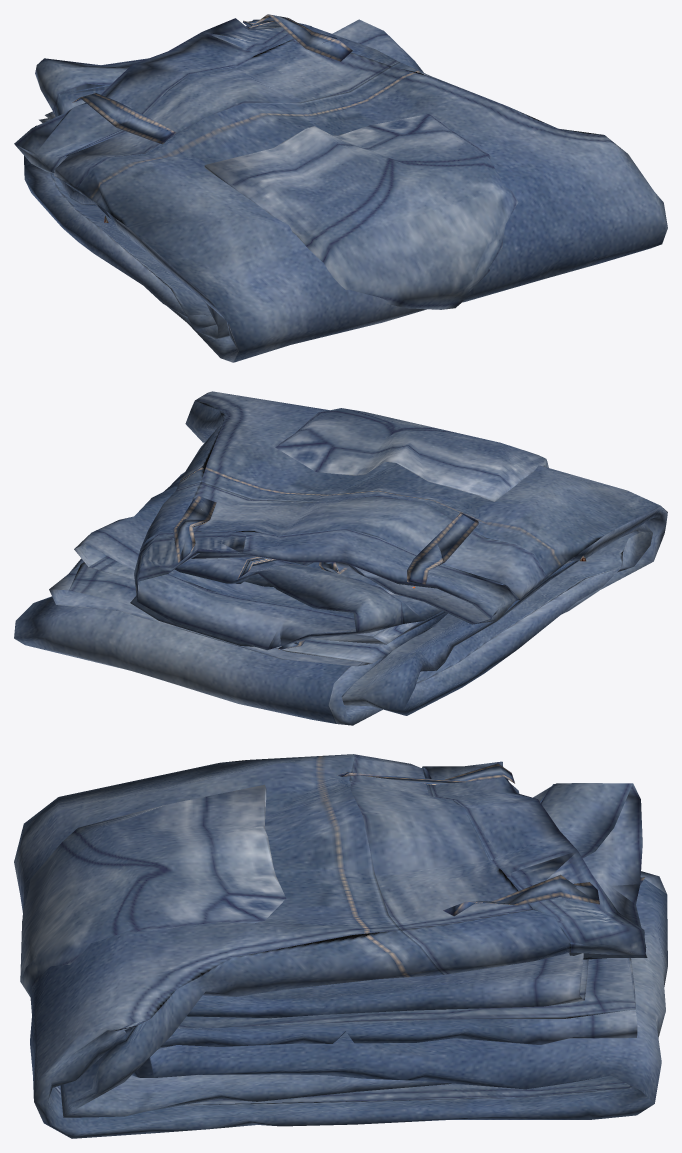
Rendered from Folded clothes 3.fbx.
3 views of the same model, one above another, from view 1: azimuth 30°, elevation 25°; view 2: azimuth 150°, elevation 25°; view 3: azimuth 270°, elevation 25° (orthographic). The views are drawn at different scales.
Parts seen in each view (by area): view 1: Folded clothes 3; view 2: Folded clothes 3; view 3: Folded clothes 3.
Part boxes in pixels (bbox=[...]): Folded clothes 3: bbox=[14, 14, 667, 362]; Folded clothes 3: bbox=[14, 391, 667, 725]; Folded clothes 3: bbox=[14, 754, 667, 1138].
Size of the model in its own units: 30.8 by 8.4 by 30.59.
